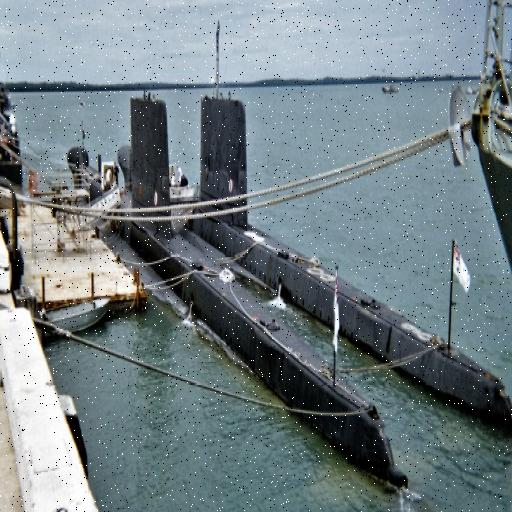submarine: (67, 99, 412, 492), (192, 99, 512, 441)
